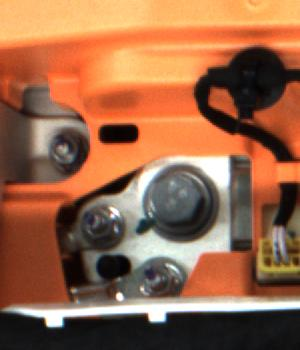nut_b: (143, 160, 223, 246)
screw_s: (76, 202, 120, 244), (45, 133, 82, 170), (140, 264, 180, 298)
